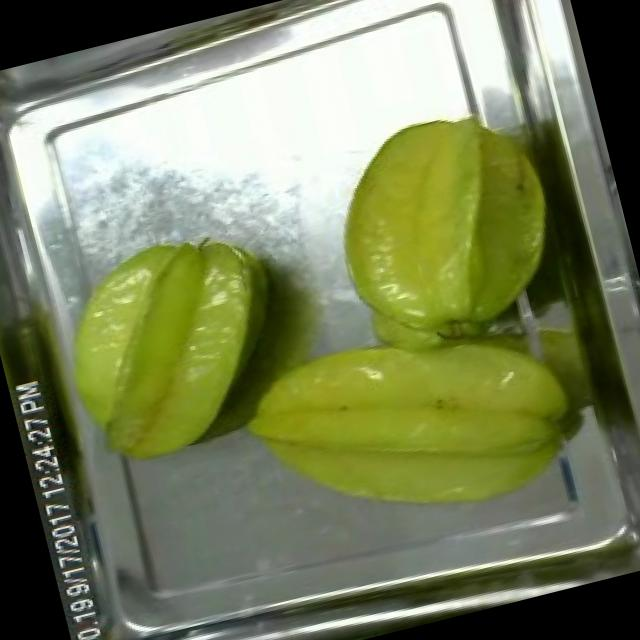fruit: (222, 283, 610, 573), (304, 83, 584, 368), (30, 211, 300, 488)
